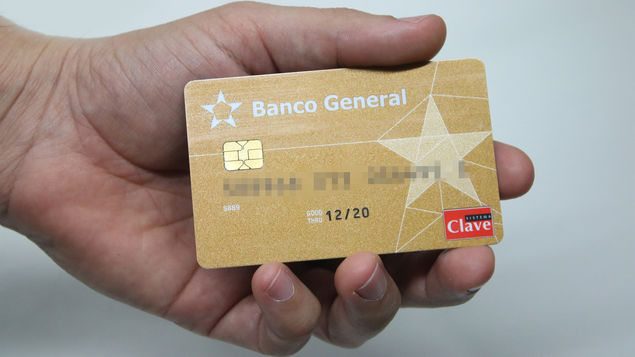tarjeta: (183, 59, 504, 270)
